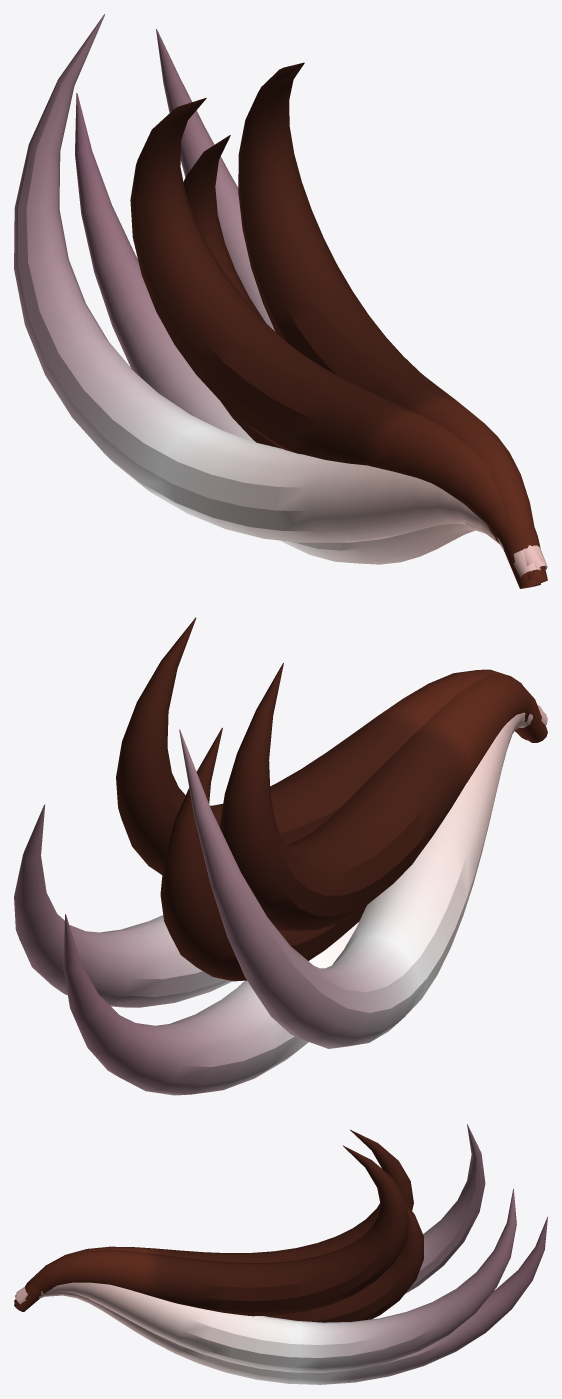
The model's file is Buntut Kaelen.fbx.
3 renders of one model, top to bottom at view 1: azimuth 30°, elevation 25°; view 2: azimuth 150°, elevation 25°; view 3: azimuth 270°, elevation 25°, orthographic. The views are drawn at different scales.
Parts seen in each view (by area): view 1: Buntut Kaelen; view 2: Buntut Kaelen; view 3: Buntut Kaelen.
Part boxes in pixels (x1,y1,x2,y2): Buntut Kaelen: (14, 14, 547, 588); Buntut Kaelen: (14, 617, 547, 1095); Buntut Kaelen: (14, 1124, 547, 1384).
Bounding box in the file's own units: 53.95 × 84.68 × 163.
